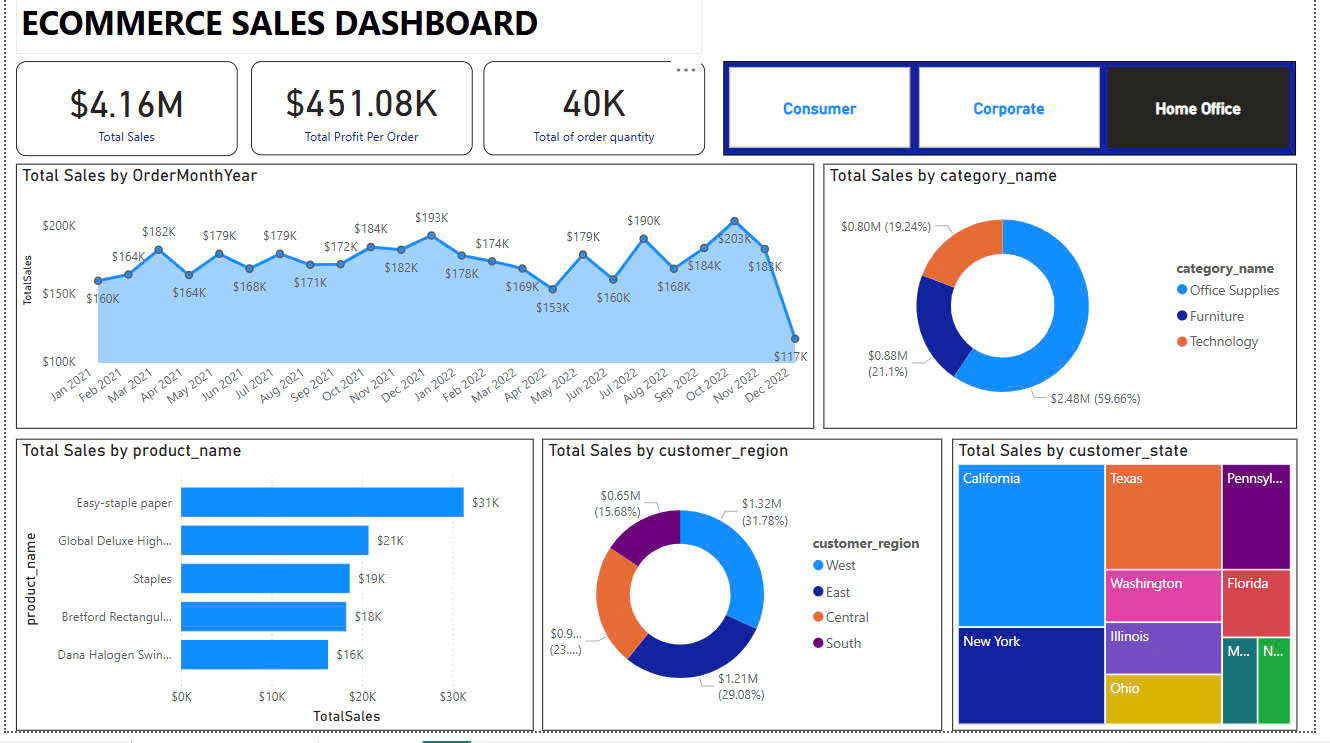

This screenshot's page, from the dashboard's own definition file:
{"tool":"powerbi","page":{"name":"ECOMMERCE SALES ","canvas":[1280,720],"ordinal":0},"visuals":[{"type":"lineChart","title":"Total Sales by OrderMonthYear","fields":{"Category":["Order Date.OrderMonthYear"],"Y":["Table.TotalSales"]},"box":[10.1,164.9,780.5,259.3],"z":0},{"type":"donutChart","title":"Total Sales by customer_region","fields":{"Y":["Table.TotalSales"],"Category":["Ecommerce_data.customer_region"]},"box":[524.9,434.3,391.5,285.8],"z":1000},{"type":"donutChart","title":"Total Sales by category_name","fields":{"Y":["Table.TotalSales"],"Category":["Ecommerce_data.category_name"]},"box":[799.4,164.9,463.3,259.3],"z":2000},{"type":"barChart","title":"Total Sales by product_name","fields":{"Category":["Ecommerce_data.product_name"],"Y":["Table.TotalSales"]},"box":[10.1,434.3,506.1,285.8],"z":3000},{"type":"treemap","title":"Total Sales by customer_state","fields":{"Values":["Table.TotalSales"],"Group":["Ecommerce_data.customer_state"]},"box":[925.3,434.3,337.4,285.8],"z":4000},{"type":"advancedSlicerVisual","fields":{"Values":["Ecommerce_data.customer_segment"]},"box":[702.4,64.2,560.2,91.9],"z":5000},{"type":"card","fields":{"Values":["Table.TotalSales"]},"box":[10.1,64.2,216.5,93.2],"z":6000},{"type":"card","fields":{"Values":["Sum(Ecommerce_data.profit_per_order)"]},"box":[239.2,64.2,216.5,91.9],"z":7000},{"type":"card","fields":{"Values":["Sum(Ecommerce_data.order_quantity)"]},"box":[467,64.2,216.5,91.9],"z":8000},{"type":"textbox","box":[10.1,0,671,57.9],"z":9000}]}

Visuals, with their boxes in screenshot pixels (x1, y1, x2, y2), scaled from the page's 1280x720 canvas onto the 1330x743 screenshot:
"Total Sales by OrderMonthYear" lineChart: BBox(10, 170, 821, 438)
"Total Sales by customer_region" donutChart: BBox(545, 448, 952, 742)
"Total Sales by category_name" donutChart: BBox(831, 170, 1312, 438)
"Total Sales by product_name" barChart: BBox(10, 448, 536, 742)
"Total Sales by customer_state" treemap: BBox(961, 448, 1312, 742)
advancedSlicerVisual - Ecommerce_data.customer_segment: BBox(730, 66, 1312, 161)
card - Table.TotalSales: BBox(10, 66, 235, 162)
card - Sum(Ecommerce_data.profit_per_order): BBox(249, 66, 474, 161)
card - Sum(Ecommerce_data.order_quantity): BBox(485, 66, 710, 161)
textbox: BBox(10, 0, 708, 60)
